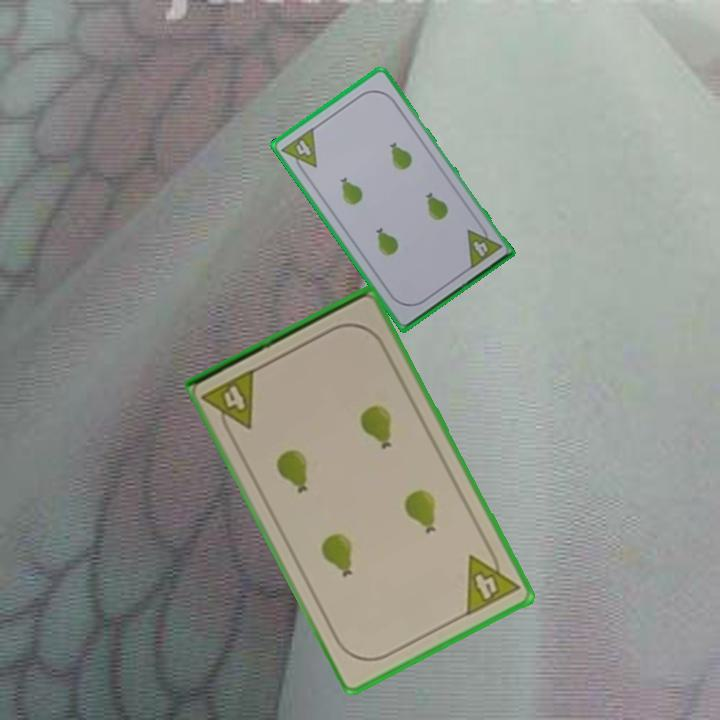4p: (462, 542, 523, 619), (200, 364, 260, 440), (278, 124, 320, 178), (463, 219, 504, 272)
